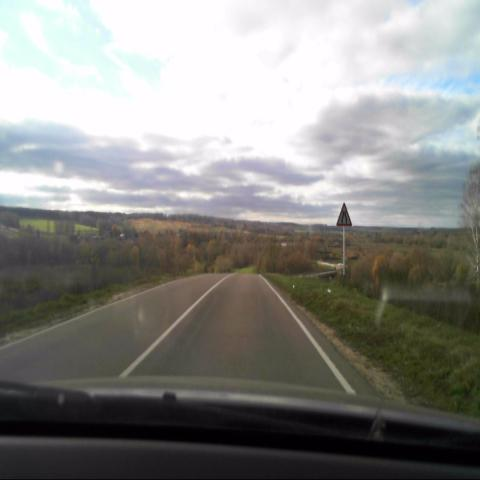1_20: (337, 202, 352, 227)
